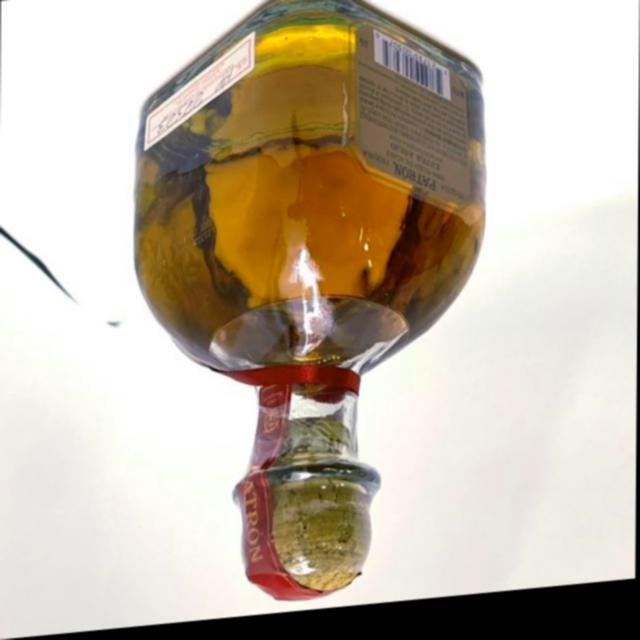Patron Extra Anejo Tequila- 750 mL Bottle- ABV 40-: (123, 0, 493, 624)
